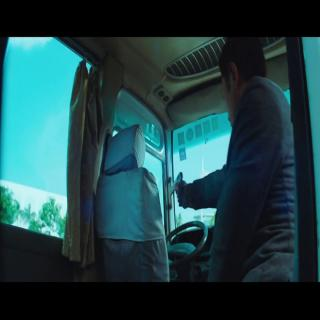gun: (168, 170, 184, 210)
